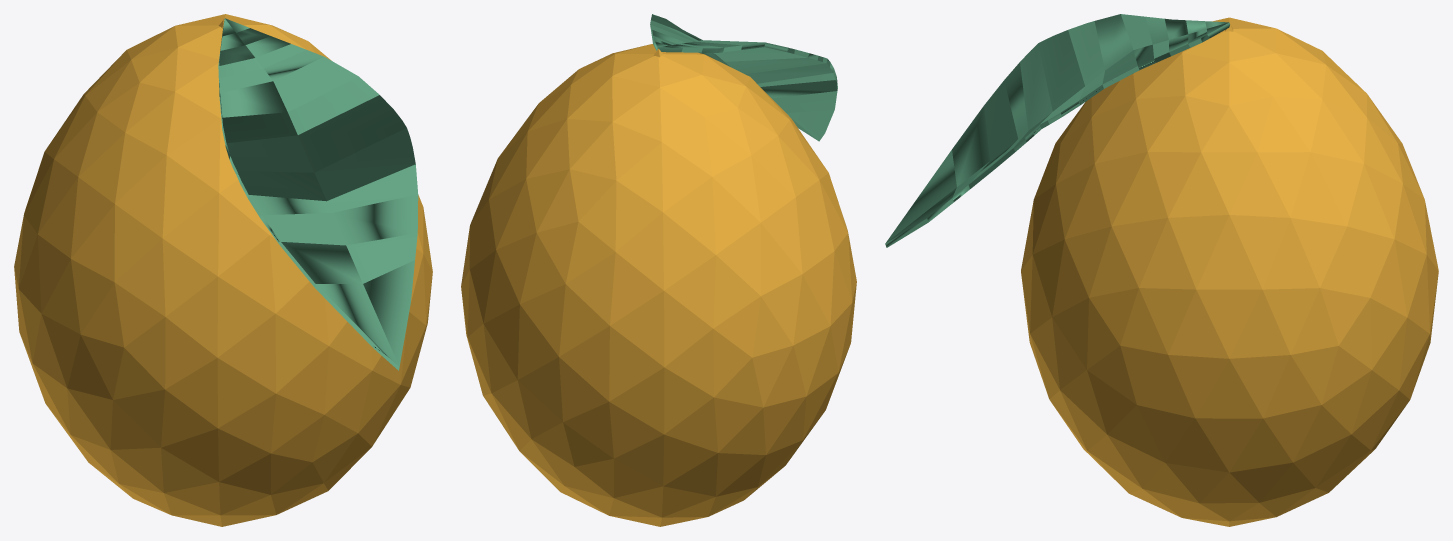
Rendered from Mango.fbx.
3 renders of one model, left to right at view 1: azimuth 30°, elevation 25°; view 2: azimuth 150°, elevation 25°; view 3: azimuth 270°, elevation 25°, orthographic. The views are drawn at different scales.
Parts seen in each view (by area): view 1: Sphere, Extrude_1; view 2: Sphere, Extrude_1; view 3: Sphere, Extrude_1.
Boxes of the visible parts, bbox=[...] form: Sphere: bbox=[14, 14, 432, 526]; Extrude_1: bbox=[218, 18, 418, 370]; Sphere: bbox=[461, 44, 856, 526]; Extrude_1: bbox=[650, 14, 837, 141]; Sphere: bbox=[1021, 17, 1438, 526]; Extrude_1: bbox=[885, 14, 1229, 247].
Bounding box in the file's own units: 212 × 276 × 282.
